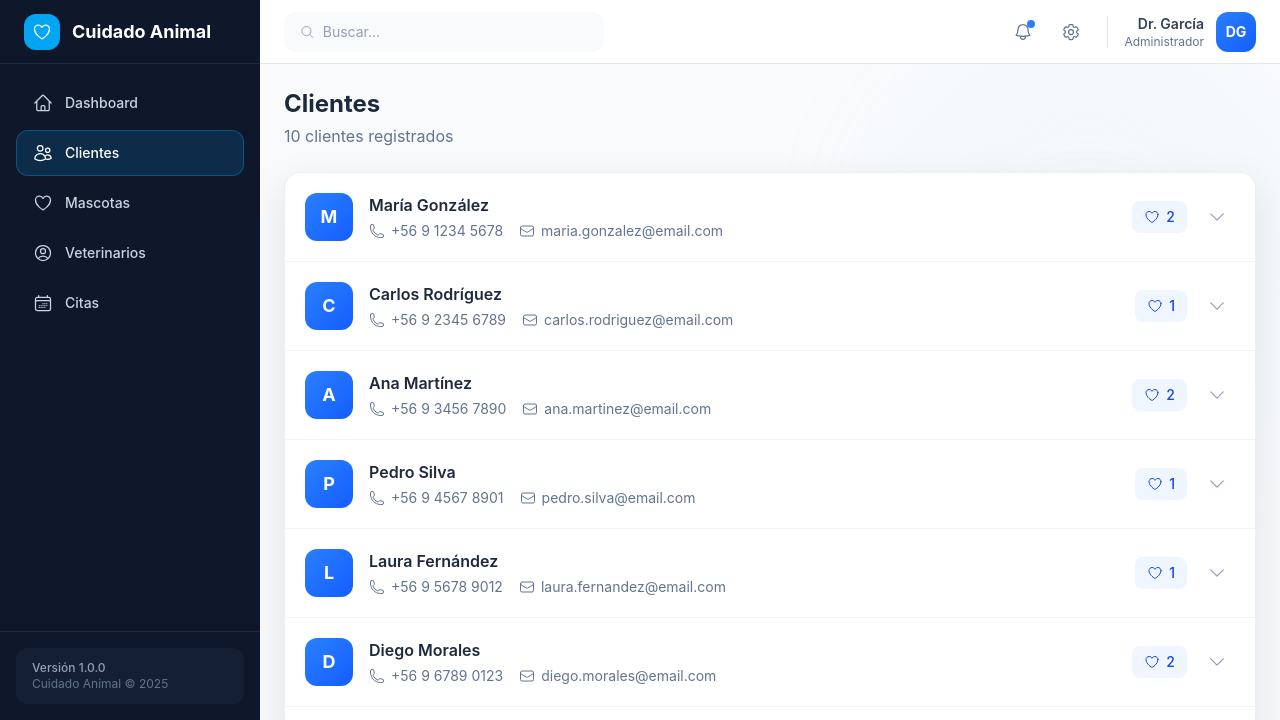
Scenario: Clientes › Expansión de detalles › puede expandir un cliente para ver detalles
Expected: the heading "Clientes" is shown, [284,89,380,118]
Note: Click en el primer cliente
Step 1. Click the heading "María González" → (429, 205), box [369,195,489,215]
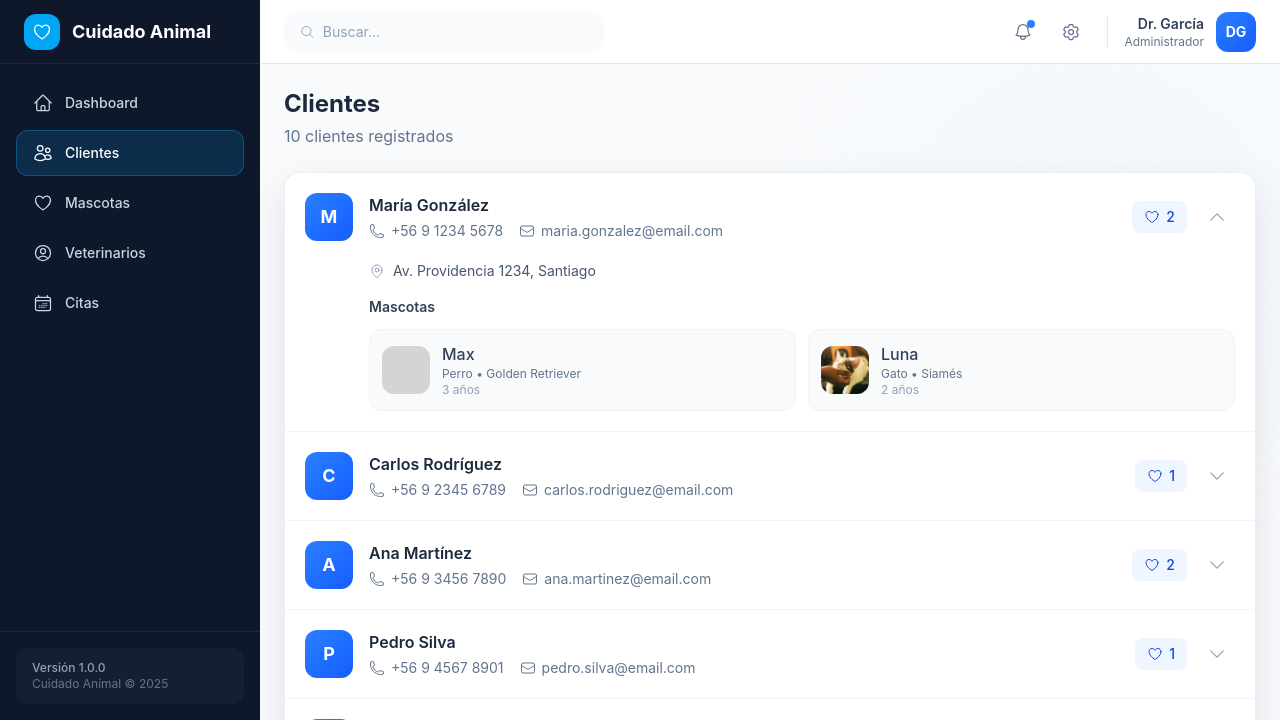
Result: the link "Max Perro • Golden Retriever 3 años" is shown at [369,329,796,411]
